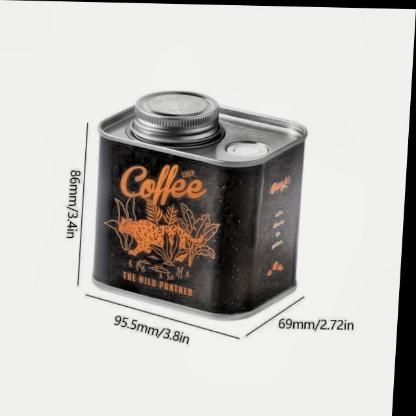Can: (90, 80, 326, 324)
